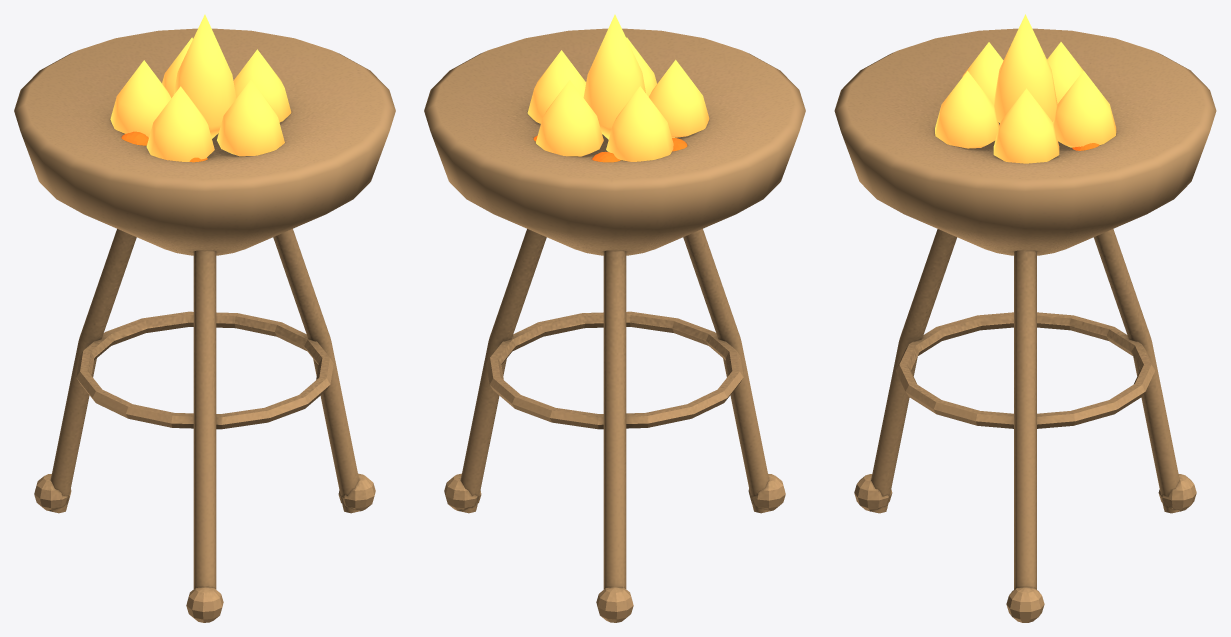
File: acropole_braseiro.glb
The picture shows the model from 3 angles, left to right: view 1: azimuth 30°, elevation 25°; view 2: azimuth 150°, elevation 25°; view 3: azimuth 270°, elevation 25°; orthographic projection.
Parts seen in each view (by area): view 1: acropole_braseiro_tronco, fogo0, fogo4, fogo3, fogo2, fogo5, fogo1; view 2: acropole_braseiro_tronco, fogo0, fogo1, fogo2, fogo3, fogo5; view 3: acropole_braseiro_tronco, fogo0, fogo4, fogo5, fogo1, fogo3, fogo2.
Boxes of the visible parts, <box> form: acropole_braseiro_tronco: <box>14,28,395,622</box>; fogo0: <box>173,14,236,138</box>; fogo4: <box>217,80,284,156</box>; fogo3: <box>146,86,214,161</box>; fogo2: <box>110,60,171,137</box>; fogo5: <box>233,49,291,122</box>; fogo1: <box>162,37,192,97</box>; acropole_braseiro_tronco: <box>424,28,805,622</box>; fogo0: <box>583,14,645,139</box>; fogo1: <box>536,80,603,156</box>; fogo2: <box>606,86,673,161</box>; fogo3: <box>649,59,709,137</box>; fogo5: <box>527,50,586,123</box>; acropole_braseiro_tronco: <box>834,28,1216,622</box>; fogo0: <box>993,14,1057,122</box>; fogo4: <box>935,71,999,148</box>; fogo5: <box>993,88,1059,163</box>; fogo1: <box>1052,70,1116,147</box>; fogo3: <box>962,42,1003,103</box>; fogo2: <box>1047,42,1083,103</box>.
Size of the model in its own units: 1.01 by 1.54 by 1.
13 materials, 1 textured.
